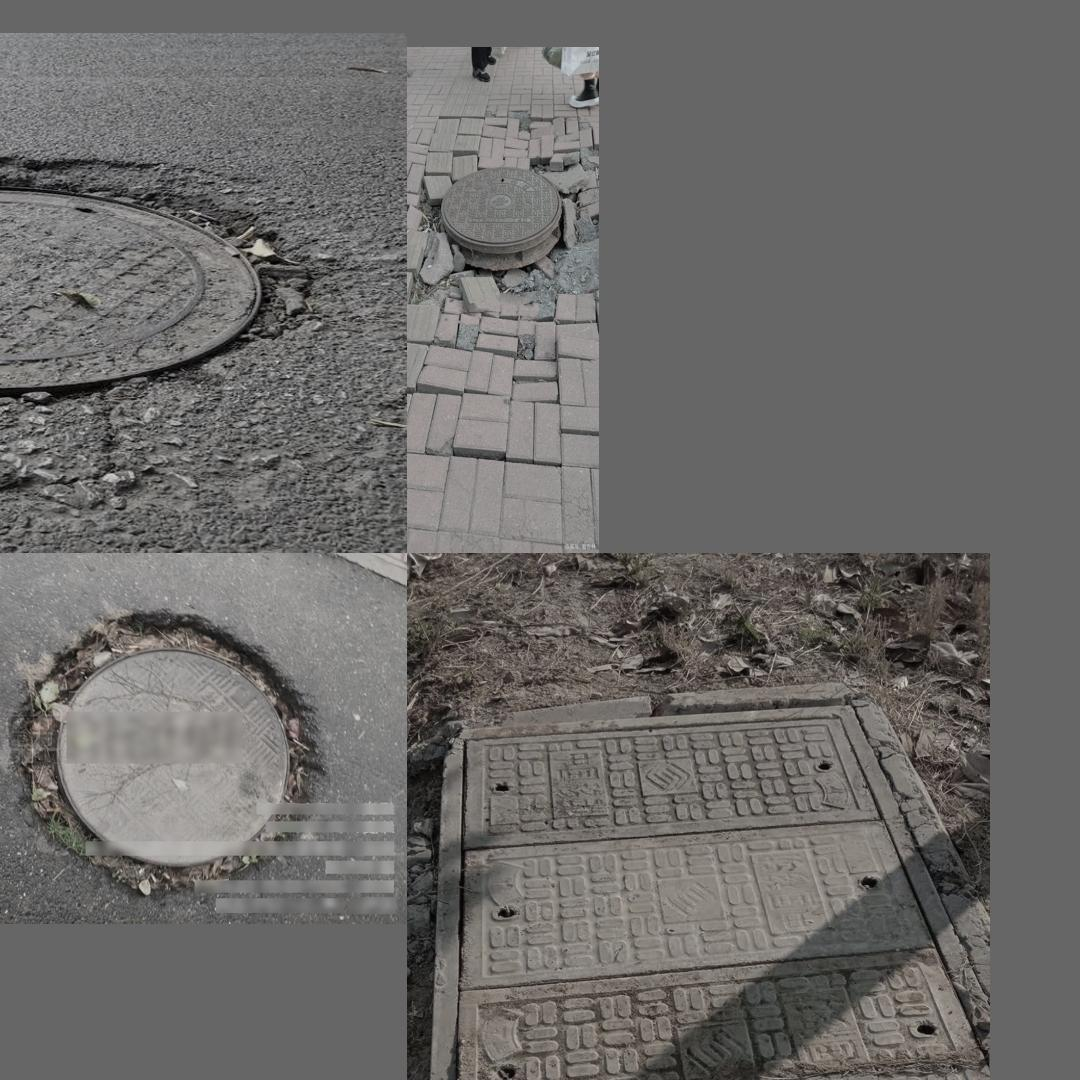circle: (415, 685, 990, 1080), (0, 154, 385, 495), (7, 613, 327, 892), (411, 122, 596, 366)
